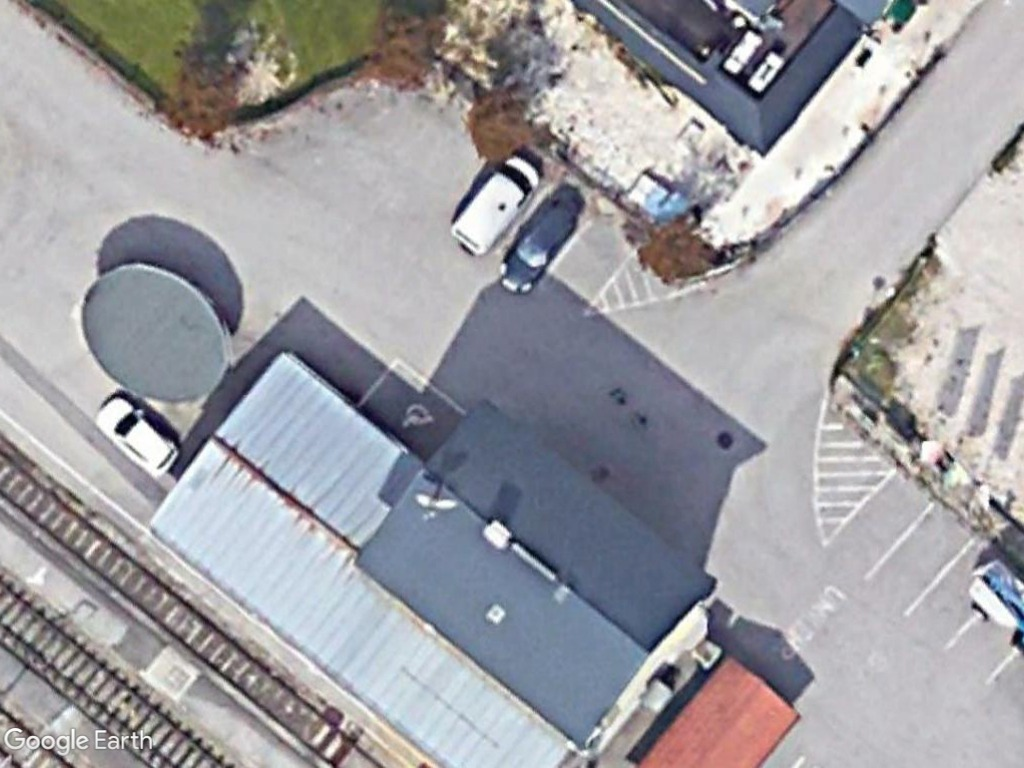car: (490, 188, 585, 297), (93, 394, 184, 481)
van: (439, 148, 549, 256)
